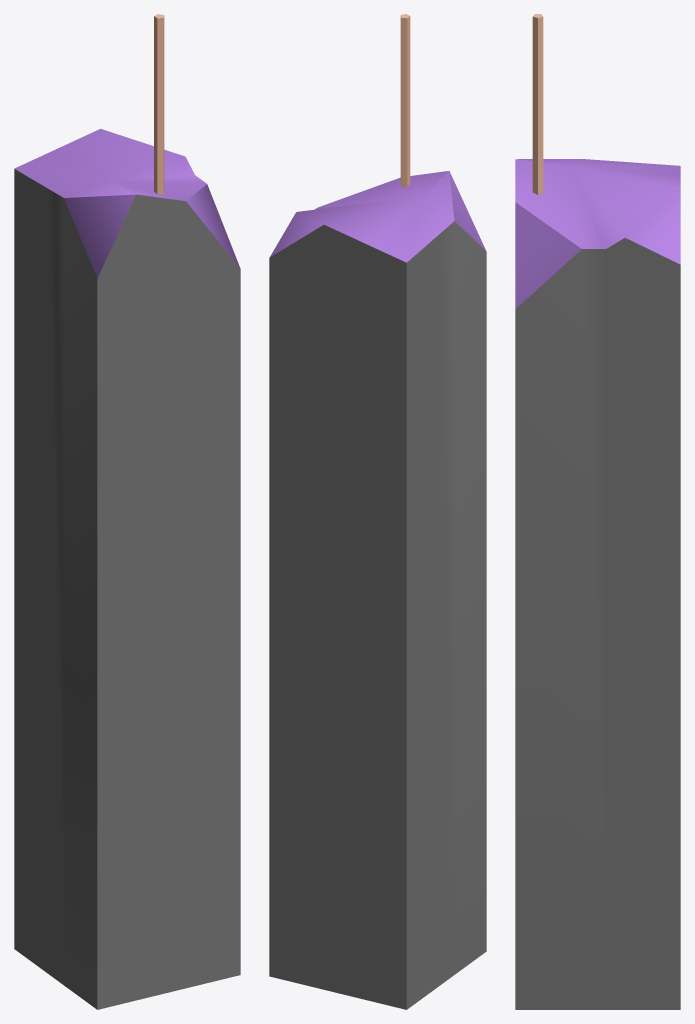
Rendered from pillier 2.fbx.
3 renders of one model, left to right at view 1: azimuth 30°, elevation 25°; view 2: azimuth 150°, elevation 25°; view 3: azimuth 270°, elevation 25°, orthographic. The views are drawn at different scales.
Parts seen in each view (by area): view 1: Box002; view 2: Box002; view 3: Box002.
Part boxes in pixels (left/top/right/bottom): Box002: left=14, top=14, right=240, bottom=1009; Box002: left=269, top=14, right=486, bottom=1009; Box002: left=515, top=14, right=680, bottom=1009.
Size of the model in its own units: 60.06 by 387 by 60.46.
